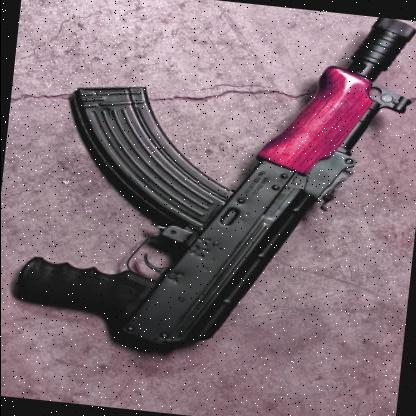rifle: (4, 0, 416, 392)
